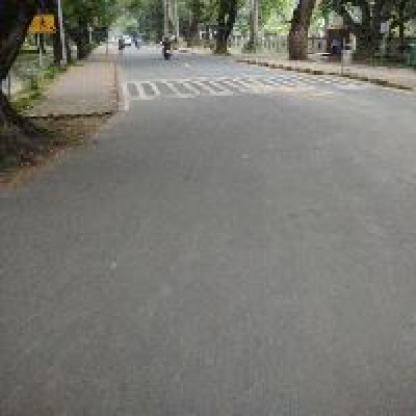Speed Bump: (125, 71, 376, 102)
